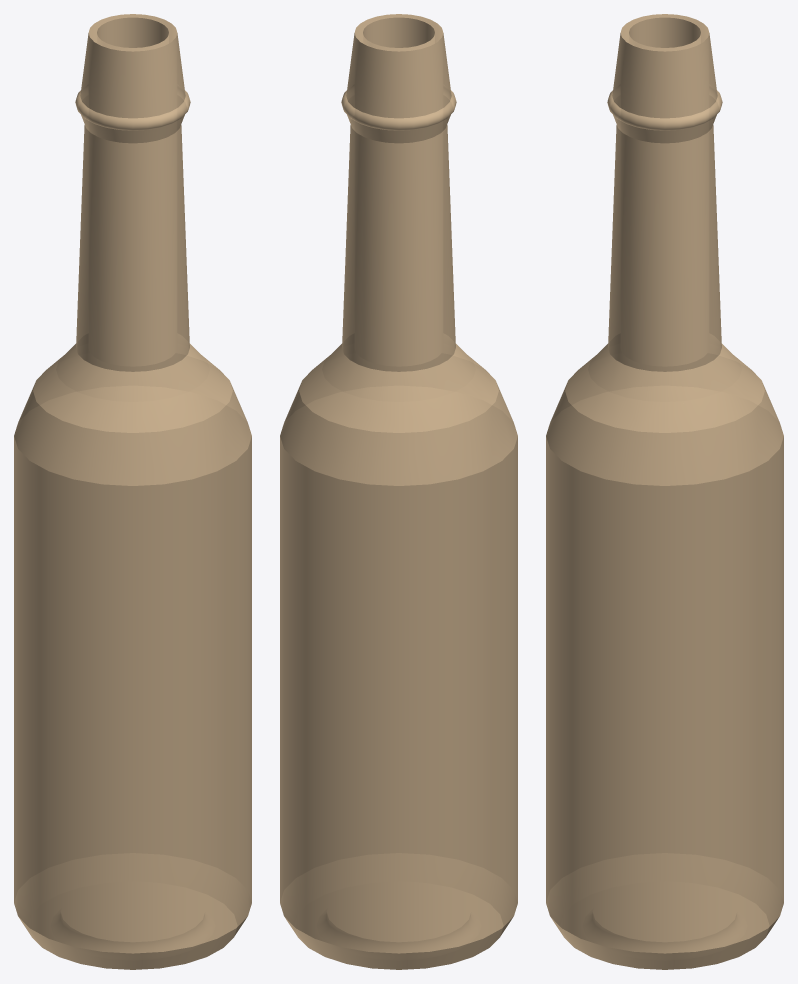
The picture shows the model from 3 angles, left to right: view 1: azimuth 30°, elevation 25°; view 2: azimuth 150°, elevation 25°; view 3: azimuth 270°, elevation 25°; orthographic projection.
Parts seen in each view (by area): view 1: mesh1_mesh1-geometry; view 2: mesh1_mesh1-geometry; view 3: mesh1_mesh1-geometry.
Boxes of the visible parts, x1,y1,x2,y2 form: mesh1_mesh1-geometry: (14, 14, 251, 969); mesh1_mesh1-geometry: (280, 14, 517, 969); mesh1_mesh1-geometry: (546, 14, 783, 969).
Size of the model in its own units: 0.2286 by 0.9463 by 0.2286.
